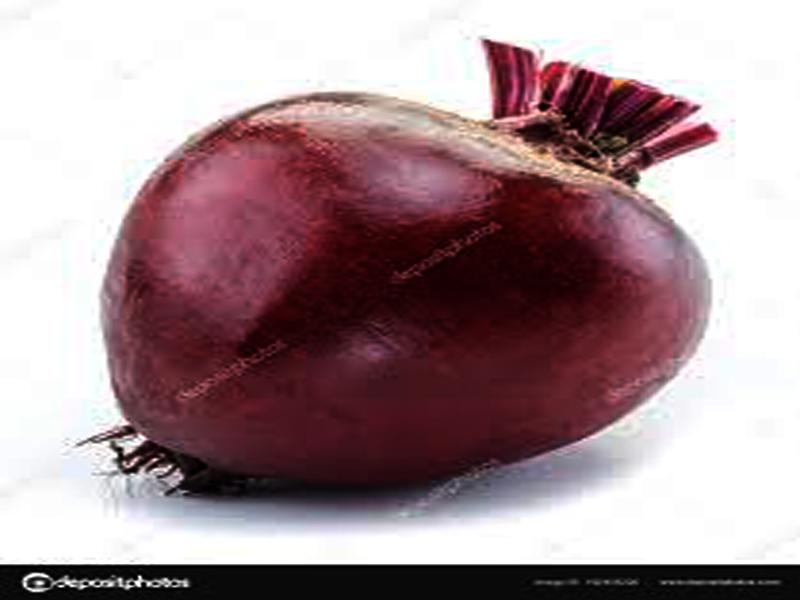Beet: (103, 45, 712, 488)
